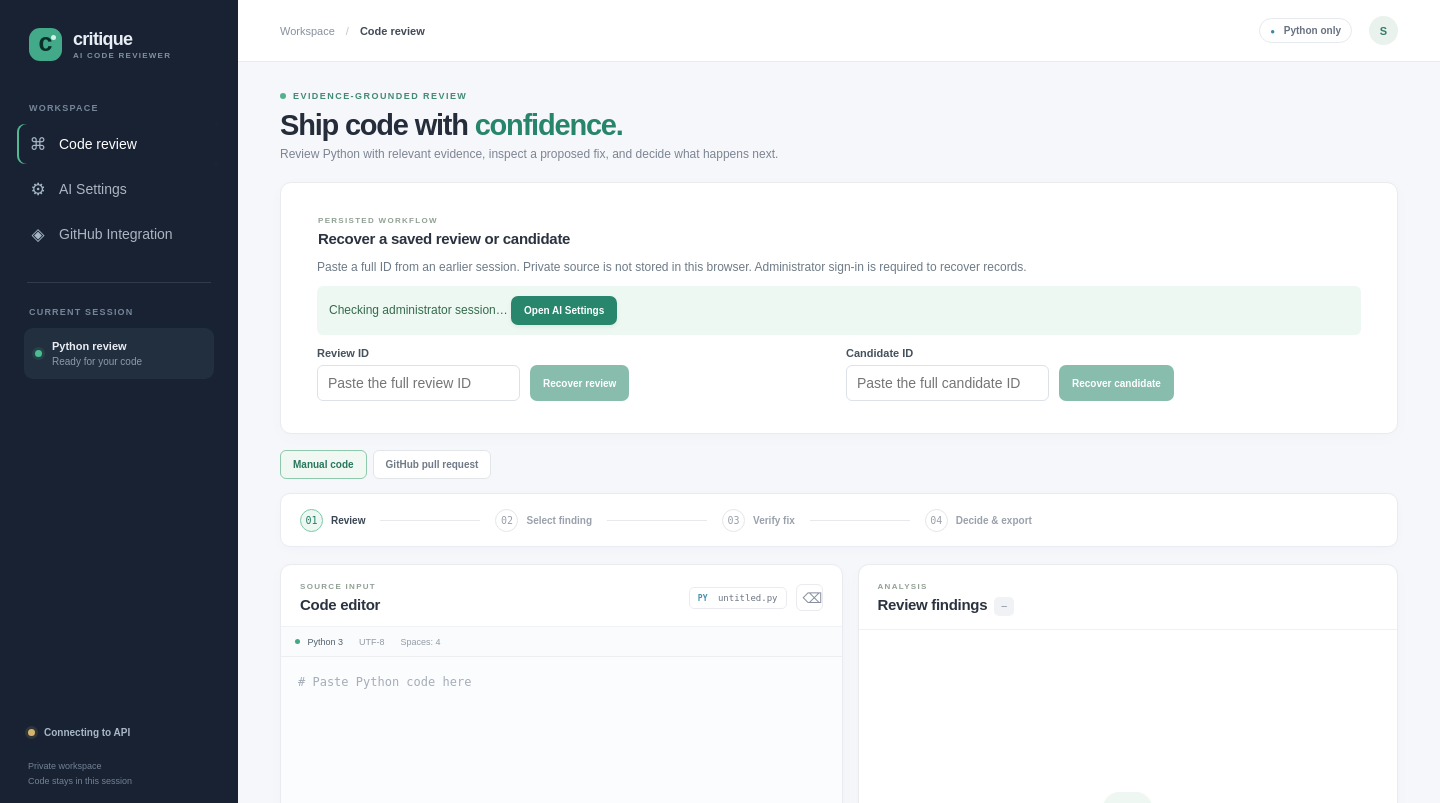
Test: AI Code Reviewer workflow › opens AI settings without a provider request or persistent browser storage
The width and height of the screenshot is (1440, 803).
Click the button "⚙ AI Settings". click: (119, 189)
box: top-left (17, 169), bottom-right (221, 209)
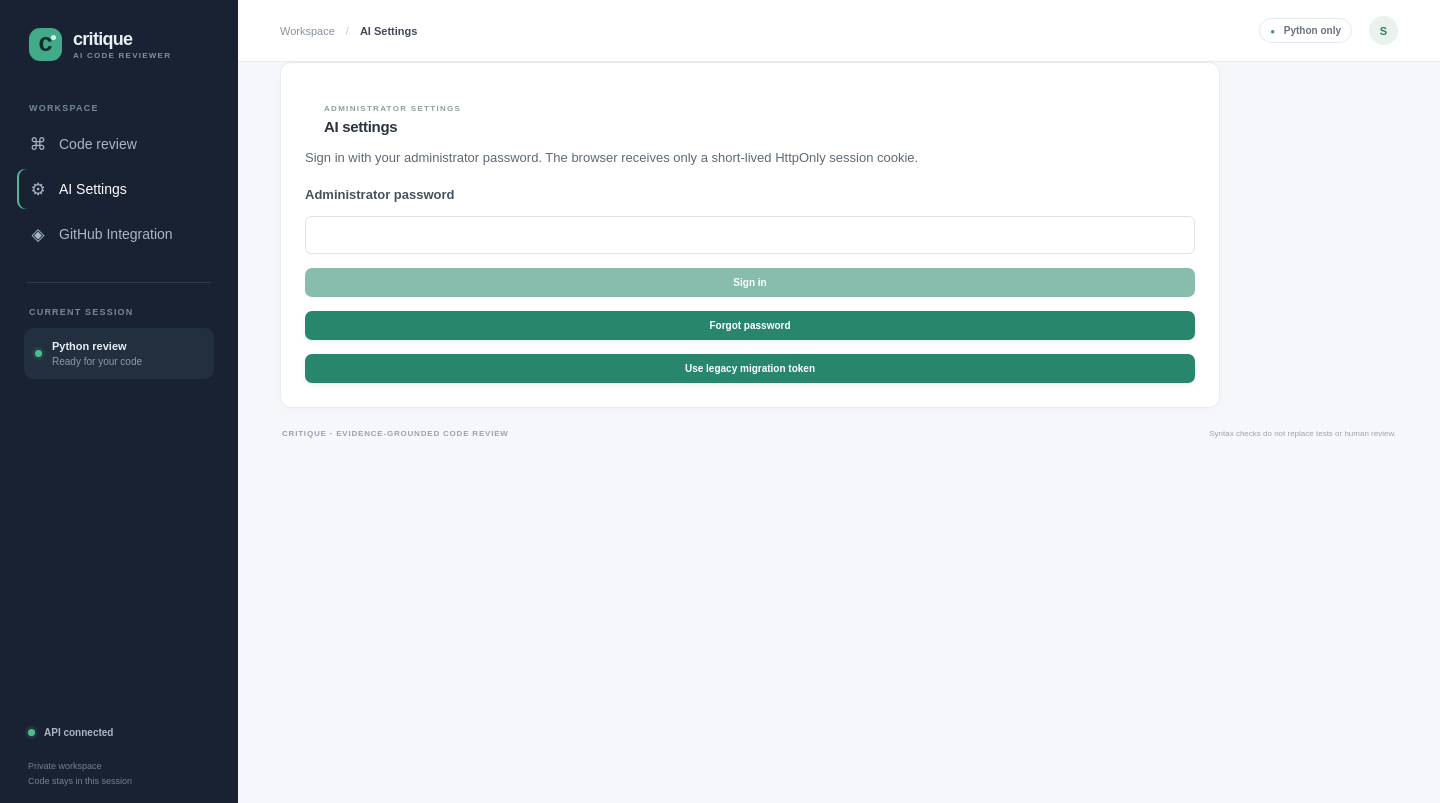
Expected: the text "administrator password" is shown, top-left (305, 150), bottom-right (918, 165)
